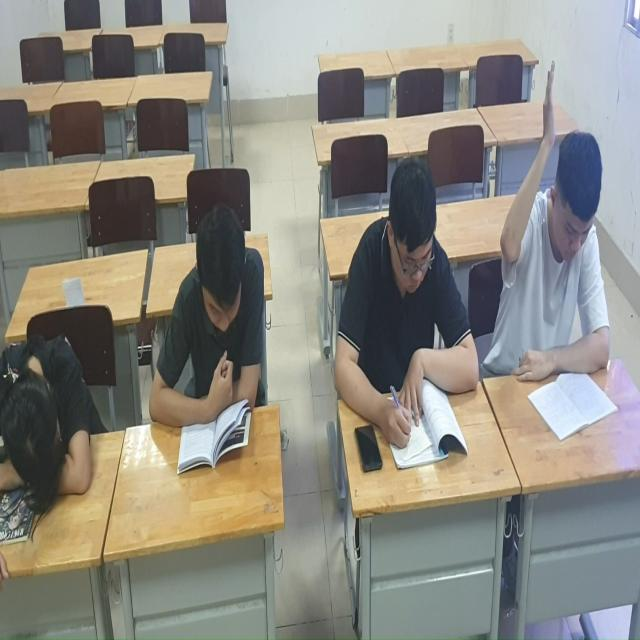raise_hand: (498, 45, 639, 448)
read: (345, 140, 491, 467), (157, 208, 276, 472)
sleep: (1, 295, 101, 524)
